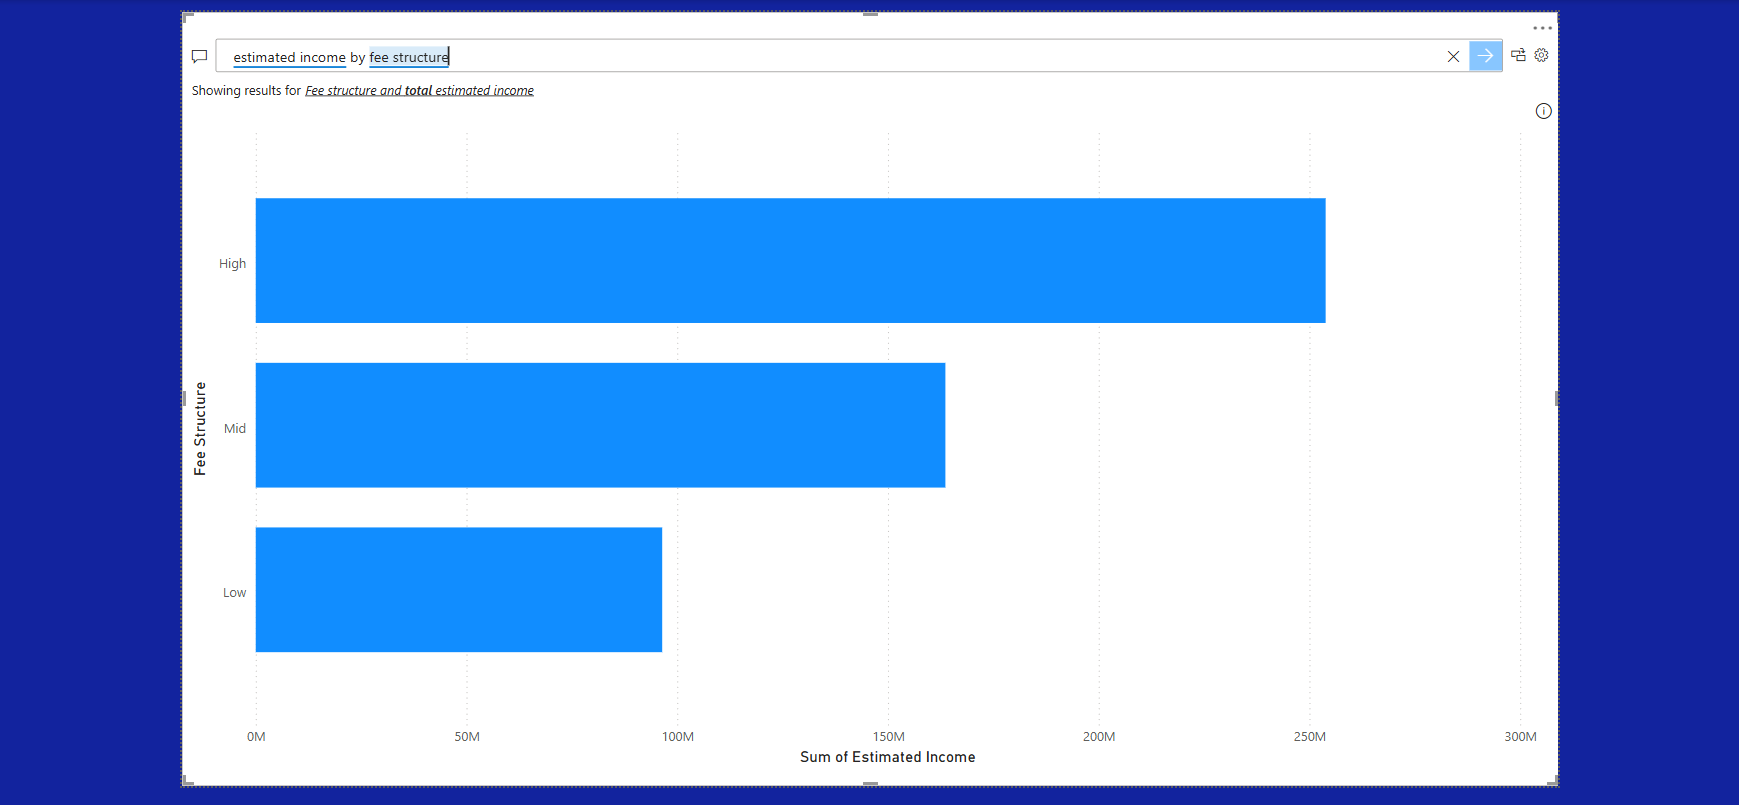

What the dashboard file says about the page in this screenshot:
{"tool":"powerbi","page":{"name":"Ask A Question","canvas":[1280,720],"ordinal":4},"visuals":[{"type":"qnaVisual","box":[0,0,1280.2,719.8],"z":0}]}

Visuals, with their boxes on the page's 1280x720 design canvas (x1, y1, x2, y2). These are canvas units, not pixel positions in the 1739x805 screenshot, which may show the page scaled, cropped or inside an application window:
qnaVisual: pyautogui.locateOnScreen(0, 0, 1280, 720)
